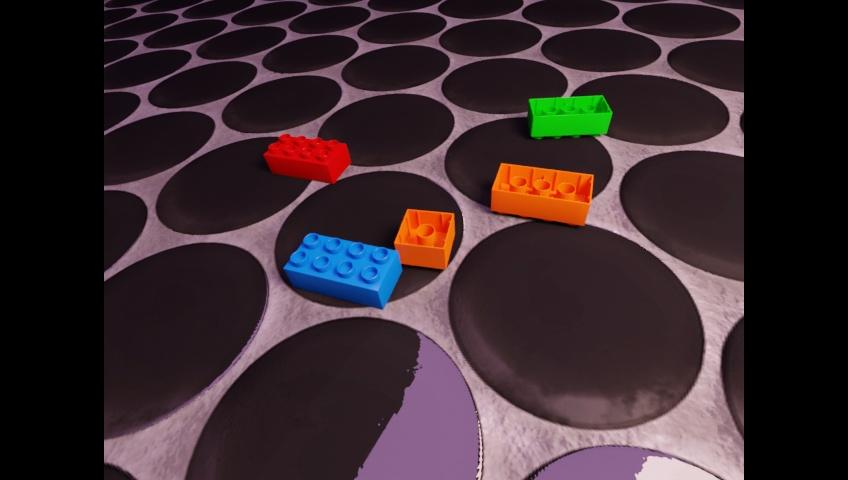2x2_orange: (394, 208, 453, 269)
4x2_blue: (283, 232, 401, 309)
4x2_green: (527, 95, 611, 138)
4x2_orange: (491, 163, 592, 225)
4x2_red: (263, 133, 350, 183)
